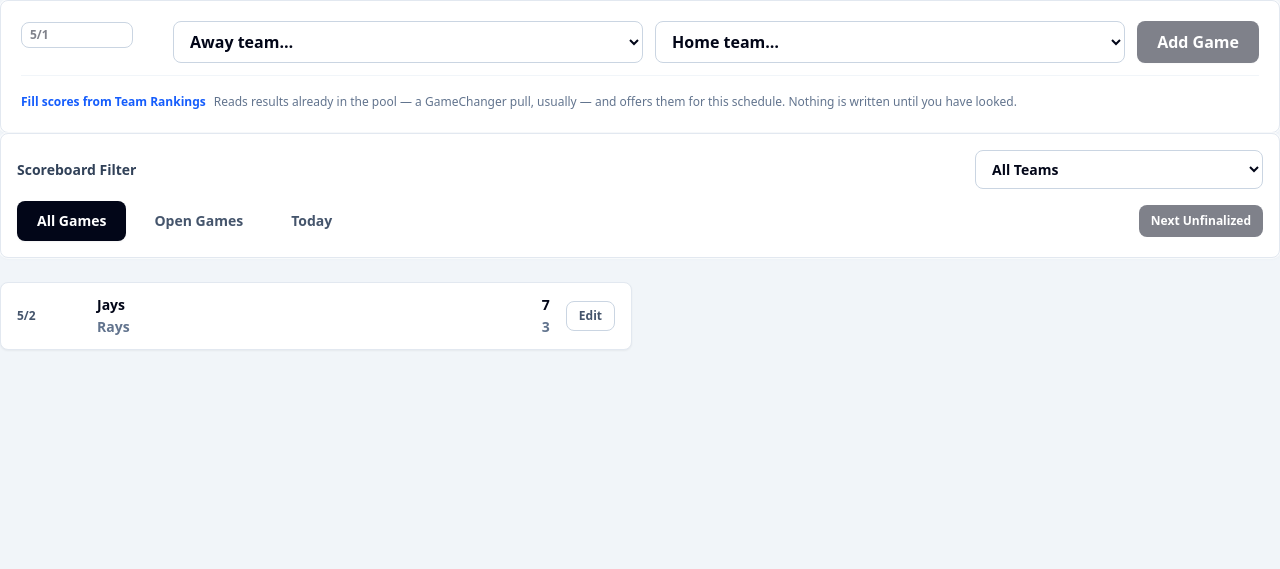
a game that is finished › puts the full card back when a correction is needed
Click the button with aria-label "edit final". click: [590, 316]
box: 566,301 -> 615,331
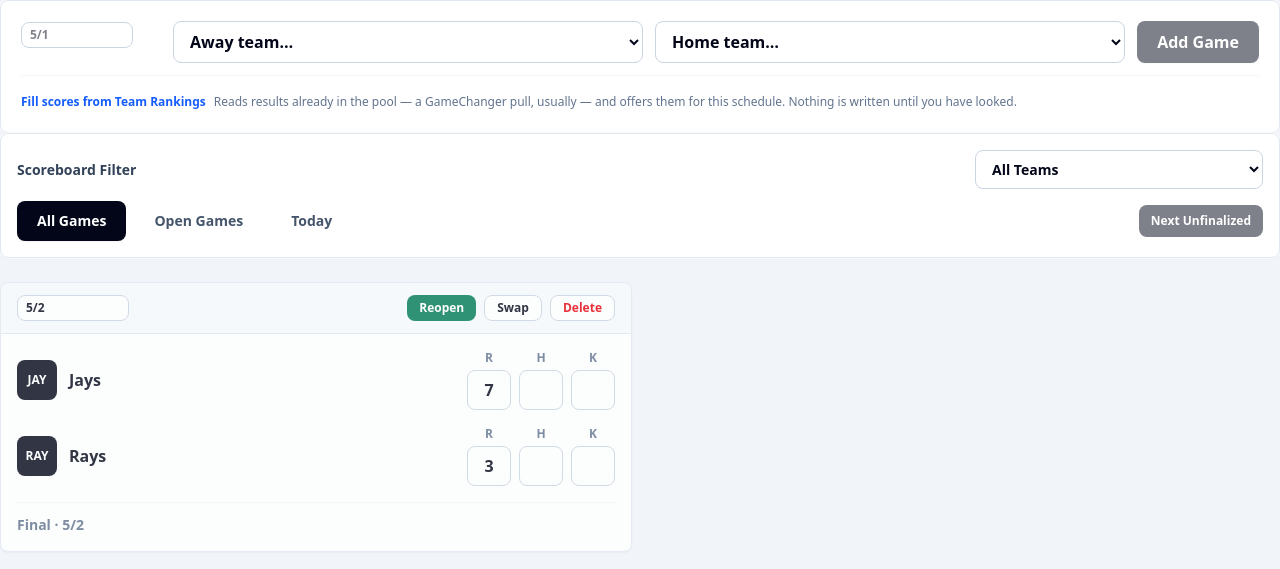
Check: the field named "Jays Runs" is shown, box 467,370 -> 511,410
